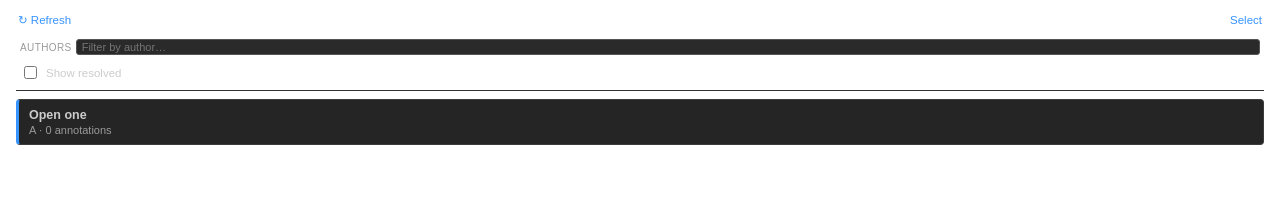
App.svelte › hides resolved groups until show-resolved is checked
Expected: the number of buttons with test id "group-card" is 1, [16,99,1264,145]
Click the checkbox with test id "show-resolved" at point(30, 72), box [24,66,37,79]
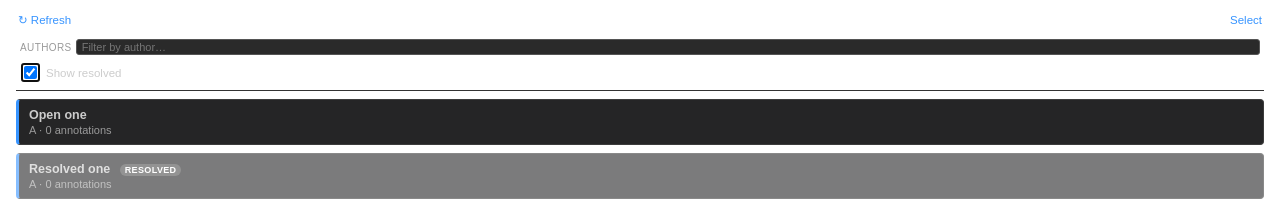
Result: the number of buttons with test id "group-card" is 2 at [16,99,1264,145]; [16,153,1264,199]
